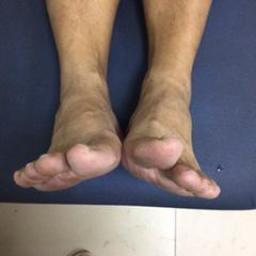Front View -Both Feet-: (8, 47, 226, 223)
